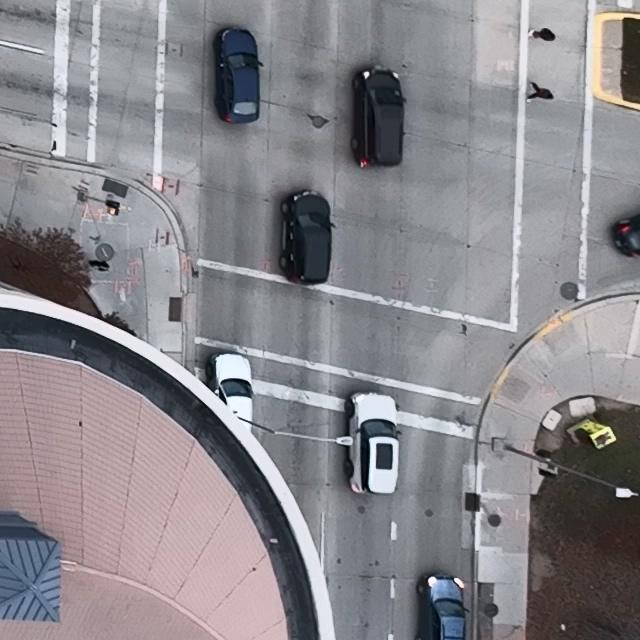car: (345, 393, 401, 496), (353, 66, 408, 170), (281, 190, 337, 285), (213, 27, 265, 123), (207, 351, 253, 431), (417, 573, 470, 640), (613, 213, 640, 258)
